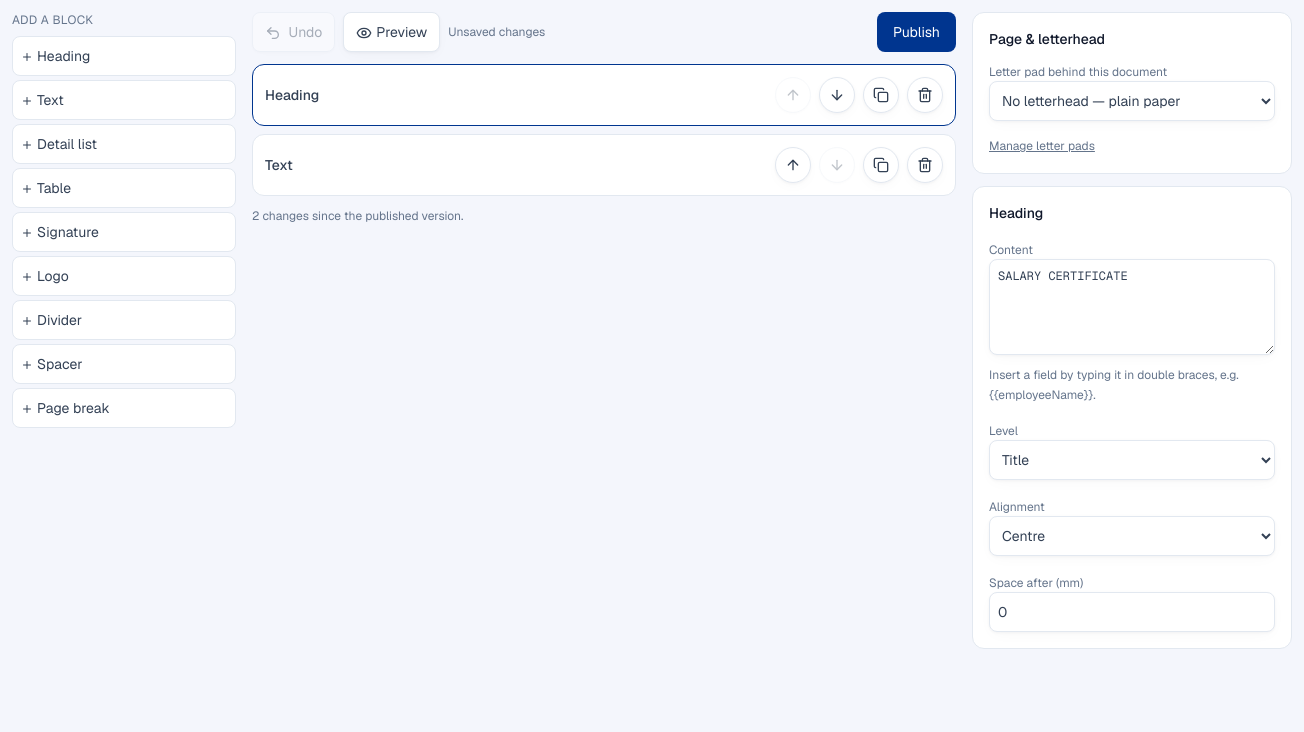
TemplateBuilder › adds a block from the palette
Step 1. Click the button "Detail list" → coordinates (124, 144), box [12, 124, 236, 164]
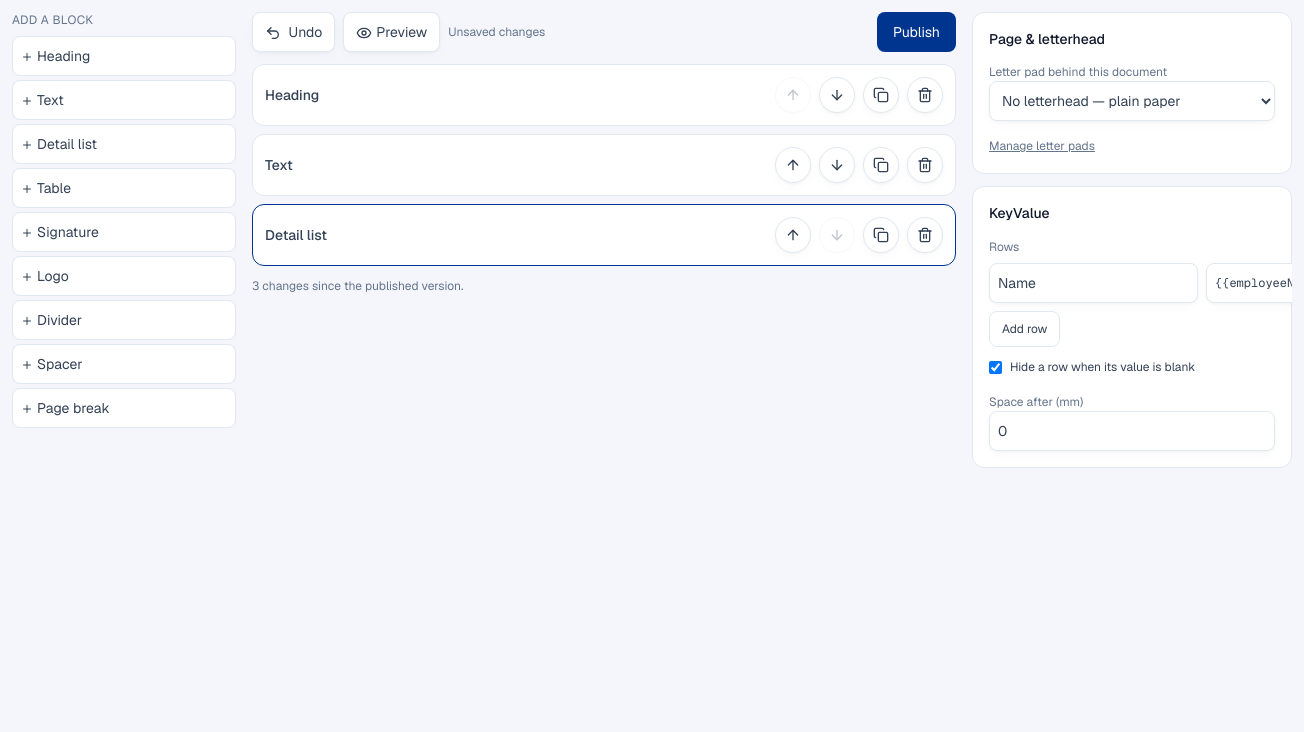
Check: the text "Detail list" is shown, box [265, 226, 327, 244]
